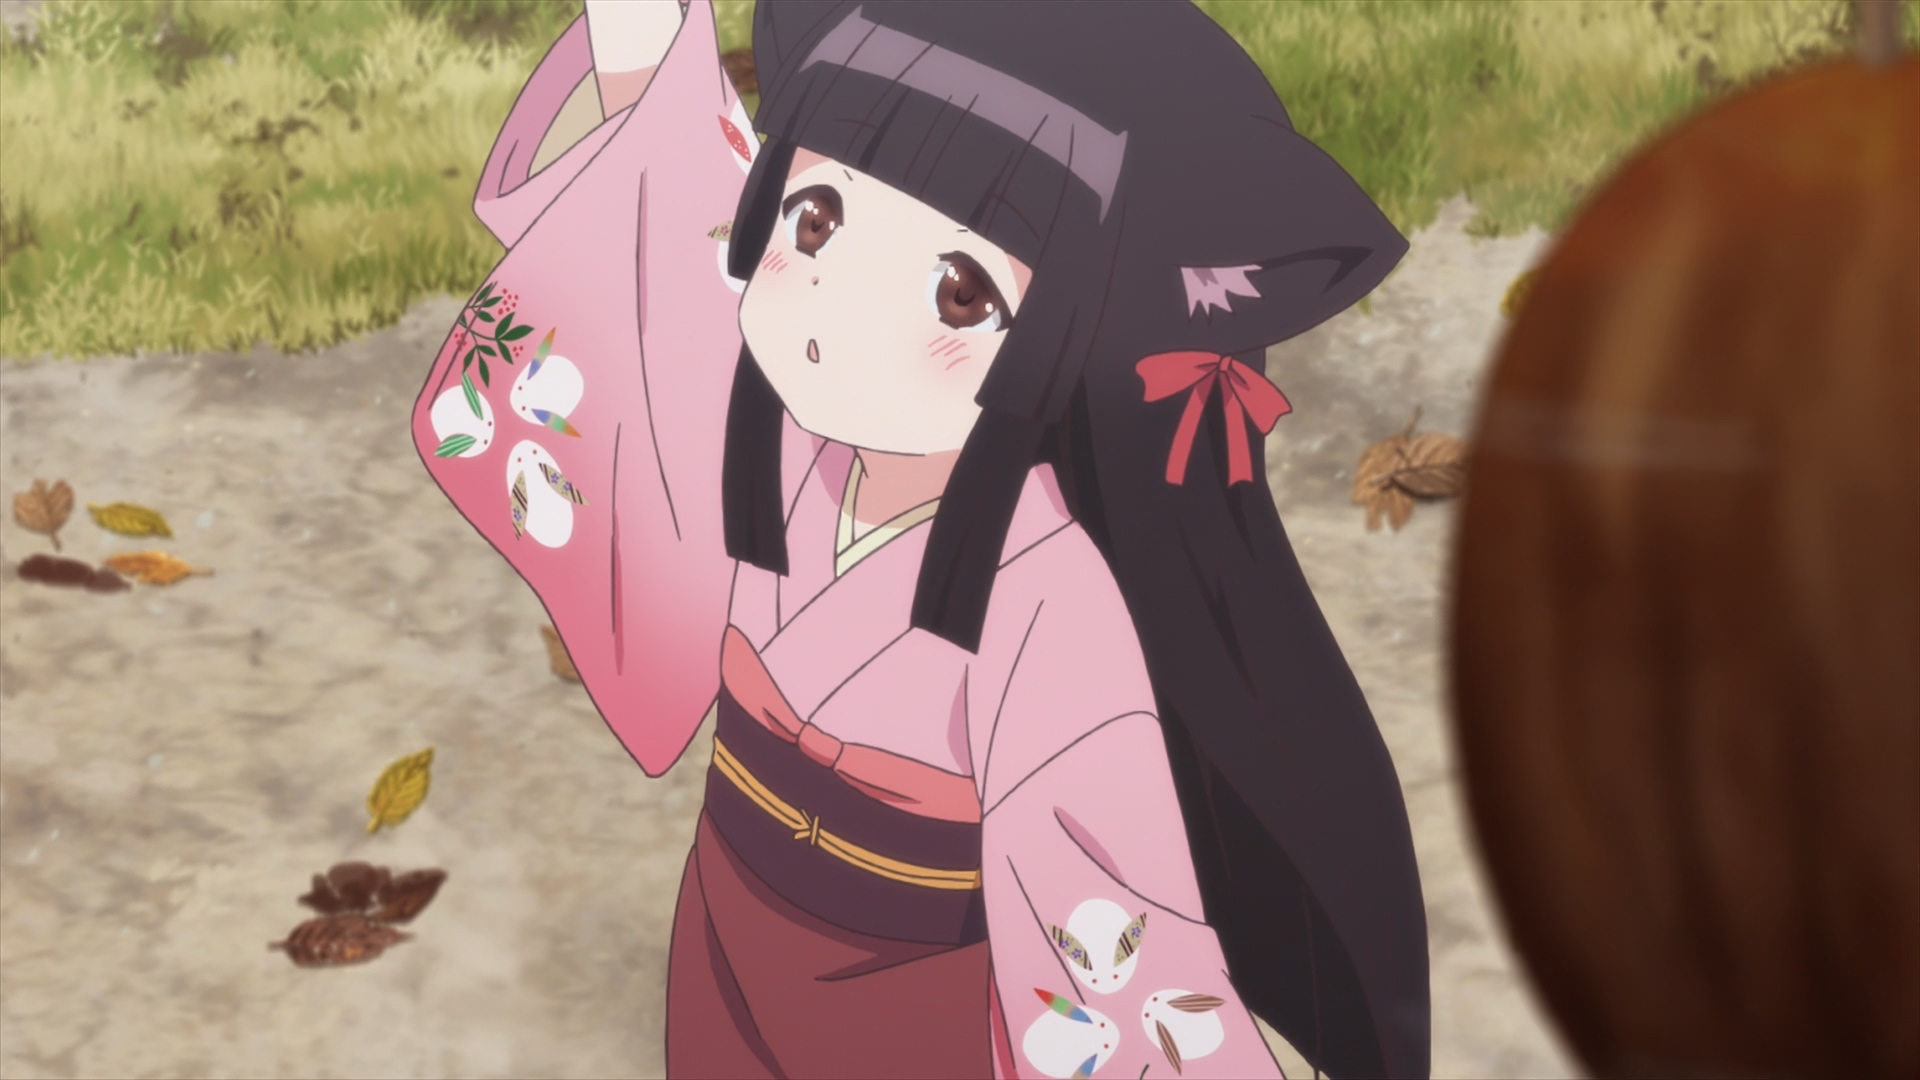樱: (410, 1, 1431, 1080)
